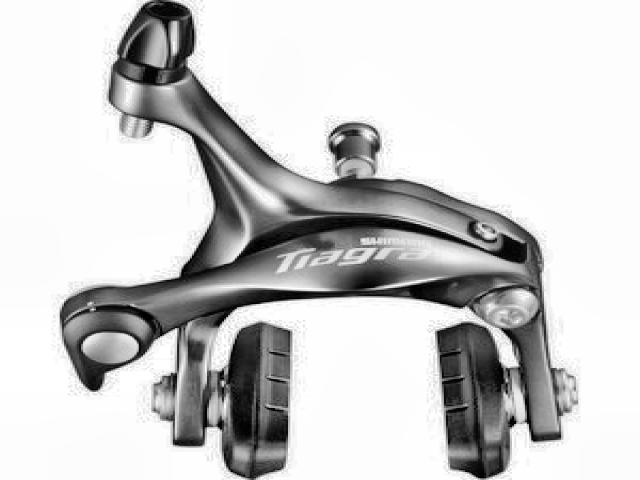rim_brake: (59, 4, 576, 480)
